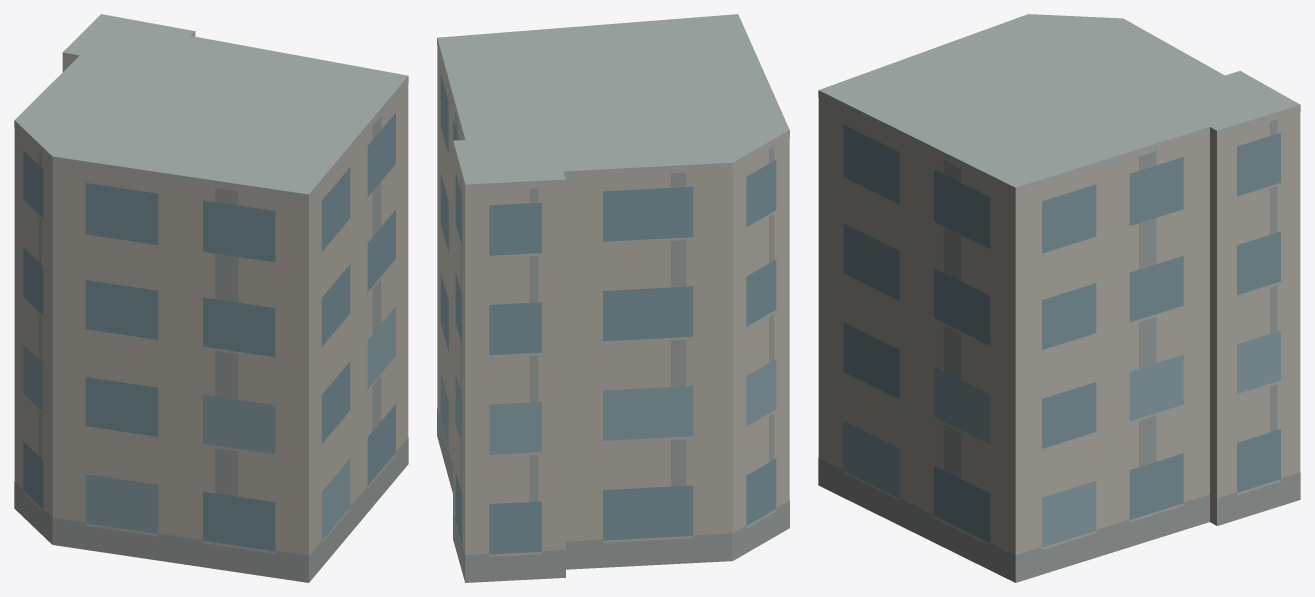
File: residential-bf74db86-965d-4577-ac02-6f0a7355a6a4.glb
The picture shows the model from 3 angles, left to right: view 1: azimuth 30°, elevation 25°; view 2: azimuth 150°, elevation 25°; view 3: azimuth 270°, elevation 25°; orthographic projection. The views are drawn at different scales.
Visible parts, largest first — view 1: residential-bf74db86-965d-4577-ac02-6f0a7355a6a4.tmp; view 2: residential-bf74db86-965d-4577-ac02-6f0a7355a6a4.tmp; view 3: residential-bf74db86-965d-4577-ac02-6f0a7355a6a4.tmp.
Boxes of the visible parts, x1,y1,x2,y2 form: residential-bf74db86-965d-4577-ac02-6f0a7355a6a4.tmp: [14, 14, 408, 582]; residential-bf74db86-965d-4577-ac02-6f0a7355a6a4.tmp: [437, 14, 789, 582]; residential-bf74db86-965d-4577-ac02-6f0a7355a6a4.tmp: [818, 14, 1300, 582].
Size of the model in its own units: 12.07 by 12.8 by 14.16.
